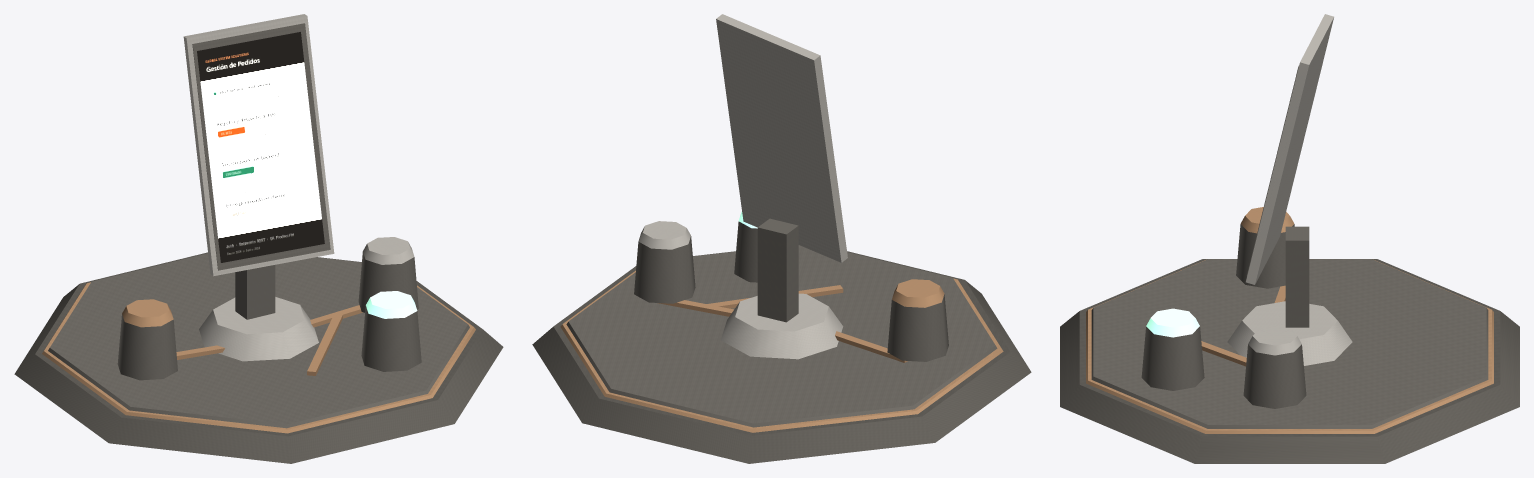
File: gss-mobile.glb
3 renders of one model, left to right at view 1: azimuth 30°, elevation 25°; view 2: azimuth 150°, elevation 25°; view 3: azimuth 270°, elevation 25°, orthographic. The views are drawn at different scales.
Parts seen in each view (by area): view 1: gss_deck, gss_phone_screen, gss_base_lower, gss_pedestal_base, gss_phone_body, gss_phone_bezel, gss_base_inlay, gss_mod_auth_block, gss_mod_sync_block, gss_mod_rest_block, gss_pedestal_stem, gss_mod_auth_cap (+3 smaller); view 2: gss_deck, gss_phone_body, gss_base_lower, gss_pedestal_base, gss_pedestal_stem, gss_base_inlay, gss_mod_rest_block, gss_mod_auth_block, gss_mod_sync_block, gss_mod_auth_cap, gss_mod_rest_cap, gss_mod_auth_bus (+2 smaller); view 3: gss_deck, gss_base_lower, gss_phone_body, gss_pedestal_base, gss_base_inlay, gss_mod_rest_block, gss_mod_sync_block, gss_pedestal_stem, gss_mod_auth_block, gss_mod_sync_cap, gss_mod_rest_cap, gss_mod_auth_cap.
Boxes of the visible parts, left/top/right/bottom form: gss_deck: left=48, top=253, right=469, bottom=428; gss_phone_screen: left=197, top=32, right=324, bottom=262; gss_base_lower: left=14, top=252, right=503, bottom=463; gss_pedestal_base: left=199, top=297, right=318, bottom=361; gss_phone_body: left=183, top=14, right=334, bottom=276; gss_phone_bezel: left=192, top=23, right=330, bottom=270; gss_base_inlay: left=42, top=282, right=475, bottom=433; gss_mod_auth_block: left=117, top=314, right=177, bottom=380; gss_mod_sync_block: left=361, top=305, right=421, bottom=371; gss_mod_rest_block: left=358, top=251, right=418, bottom=312; gss_pedestal_stem: left=235, top=265, right=275, bottom=319; gss_mod_auth_cap: left=122, top=299, right=173, bottom=327; gss_deck: left=566, top=245, right=997, bottom=427; gss_phone_body: left=716, top=14, right=847, bottom=262; gss_base_lower: left=532, top=251, right=1031, bottom=463; gss_pedestal_base: left=721, top=293, right=843, bottom=359; gss_pedestal_stem: left=757, top=218, right=798, bottom=322; gss_base_inlay: left=560, top=270, right=1003, bottom=432; gss_mod_rest_block: left=634, top=236, right=695, bottom=303; gss_mod_auth_block: left=887, top=294, right=948, bottom=361; gss_mod_sync_block: left=734, top=221, right=757, bottom=282; gss_mod_auth_cap: left=892, top=279, right=944, bottom=307; gss_mod_rest_cap: left=638, top=221, right=690, bottom=249; gss_mod_auth_bus: left=835, top=331, right=907, bottom=362; gss_deck: left=1091, top=259, right=1488, bottom=428; gss_base_lower: left=1060, top=259, right=1519, bottom=463; gss_phone_body: left=1246, top=14, right=1333, bottom=284; gss_pedestal_base: left=1227, top=301, right=1352, bottom=365; gss_base_inlay: left=1086, top=259, right=1493, bottom=433; gss_mod_rest_block: left=1243, top=344, right=1306, bottom=408; gss_mod_sync_block: left=1141, top=326, right=1204, bottom=390; gss_pedestal_stem: left=1285, top=226, right=1309, bottom=327; gss_mod_auth_block: left=1236, top=224, right=1294, bottom=288; gss_mod_sync_cap: left=1146, top=308, right=1199, bottom=337; gss_mod_rest_cap: left=1248, top=326, right=1301, bottom=355; gss_mod_auth_cap: left=1240, top=207, right=1294, bottom=233.
Bounding box in the file's own units: 3.07 × 2.44 × 3.07.
6 materials, 5 textured.
